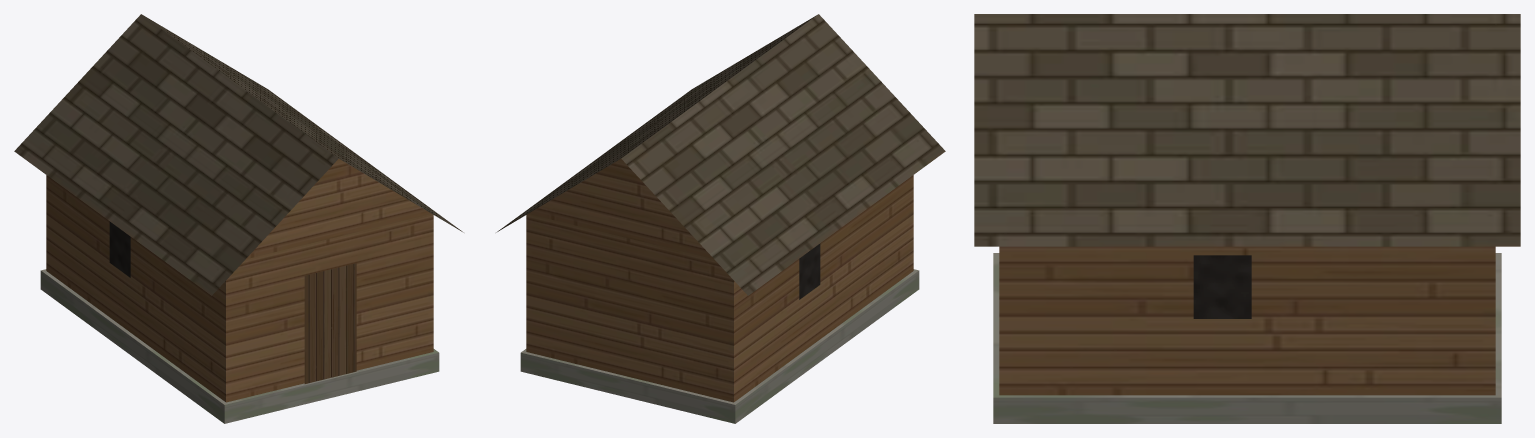
Rendered from ae_forest_wood_medium_block_lod2.glb.
3 views of the same model, side by side, from view 1: azimuth 30°, elevation 25°; view 2: azimuth 150°, elevation 25°; view 3: azimuth 270°, elevation 25° (orthographic). The views are drawn at different scales.
Parts seen in each view (by area): view 1: ae_forest_wood_medium_block_lod2; view 2: ae_forest_wood_medium_block_lod2; view 3: ae_forest_wood_medium_block_lod2.
Boxes of the visible parts, x1,y1,x2,y2 form: ae_forest_wood_medium_block_lod2: (14,14,463,423); ae_forest_wood_medium_block_lod2: (496,14,945,423); ae_forest_wood_medium_block_lod2: (974,14,1520,423).
Size of the model in its own units: 4.9 by 4.5 by 6.6.
Materials: 1 (1 with a texture image).
